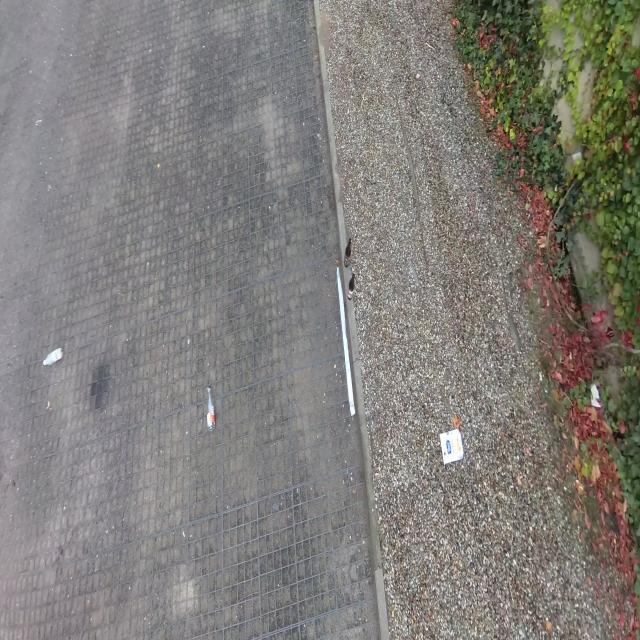rubbish: (337, 267, 355, 417), (439, 428, 464, 466), (206, 386, 215, 433), (43, 347, 63, 367), (347, 274, 355, 300), (344, 240, 351, 268)
